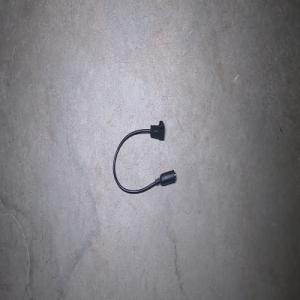Wire: (112, 120, 176, 194)
